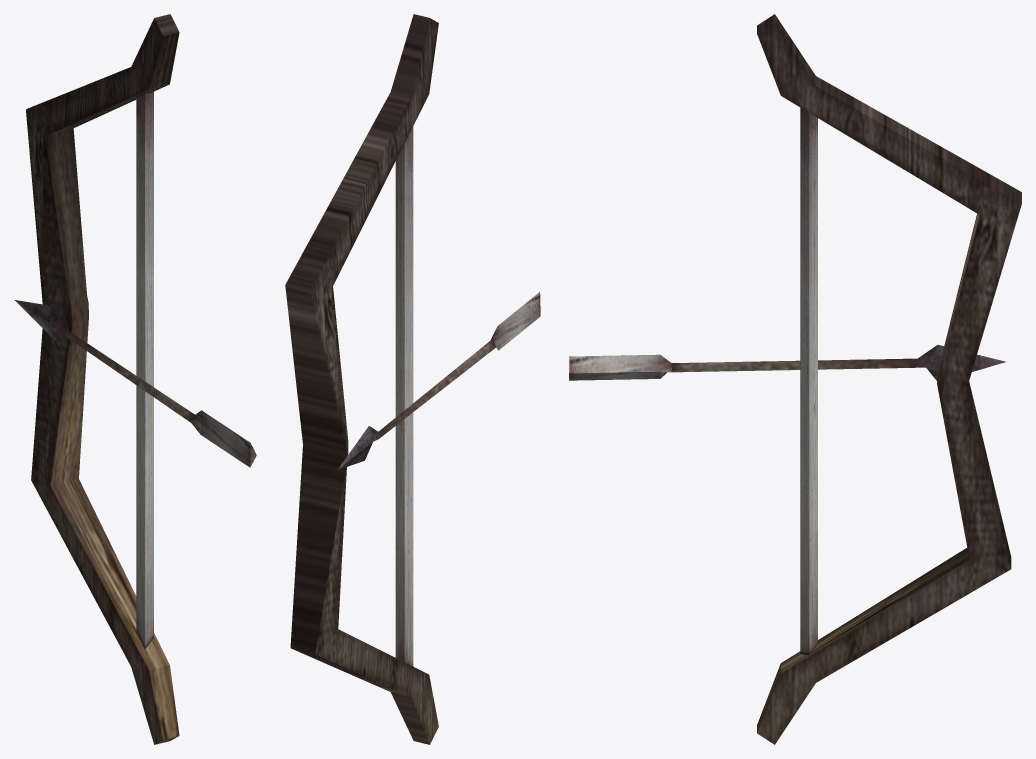
Rendered from bow.fbx.
3 renders of one model, left to right at view 1: azimuth 30°, elevation 25°; view 2: azimuth 150°, elevation 25°; view 3: azimuth 270°, elevation 25°, orthographic.
Visible parts, largest first — view 1: bowandarrow; view 2: bowandarrow; view 3: bowandarrow.
Boxes of the visible parts, box(x1,y1,x2,y2) form: bowandarrow: box(15, 14, 256, 744); bowandarrow: box(285, 14, 540, 744); bowandarrow: box(569, 14, 1021, 744).
Bounding box in the file's own units: 0.0662 × 0.8257 × 0.4685.
